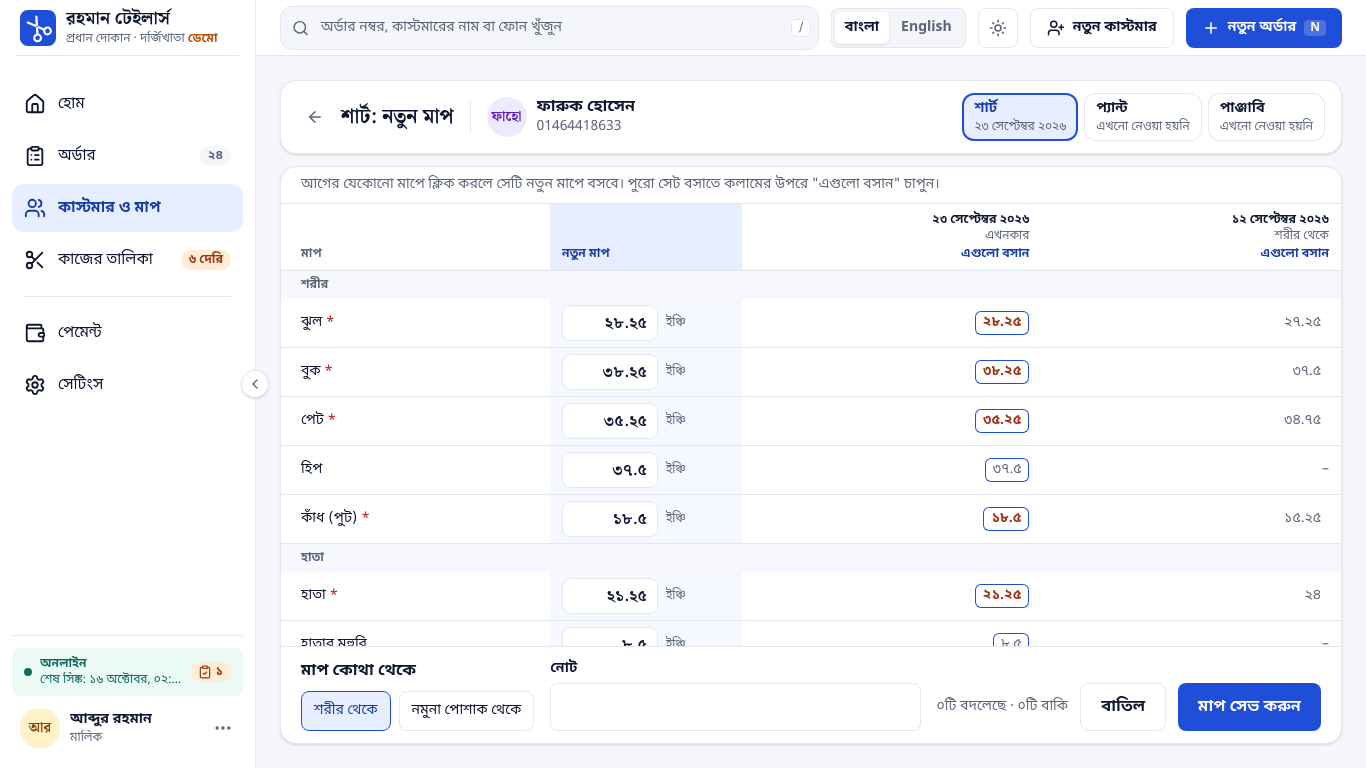
Desktop measurement form › copies a whole earlier version
Expected: the heading "শার্ট: নতুন মাপ" is shown, [341, 103, 454, 131]
// Columns run newest first, so the last one is the oldest version shown.
Click the button "এগুলো বসান" below "১২ সেপ্টেম্বর ২০২৬" at point(1295, 254), box [1261, 246, 1329, 262]
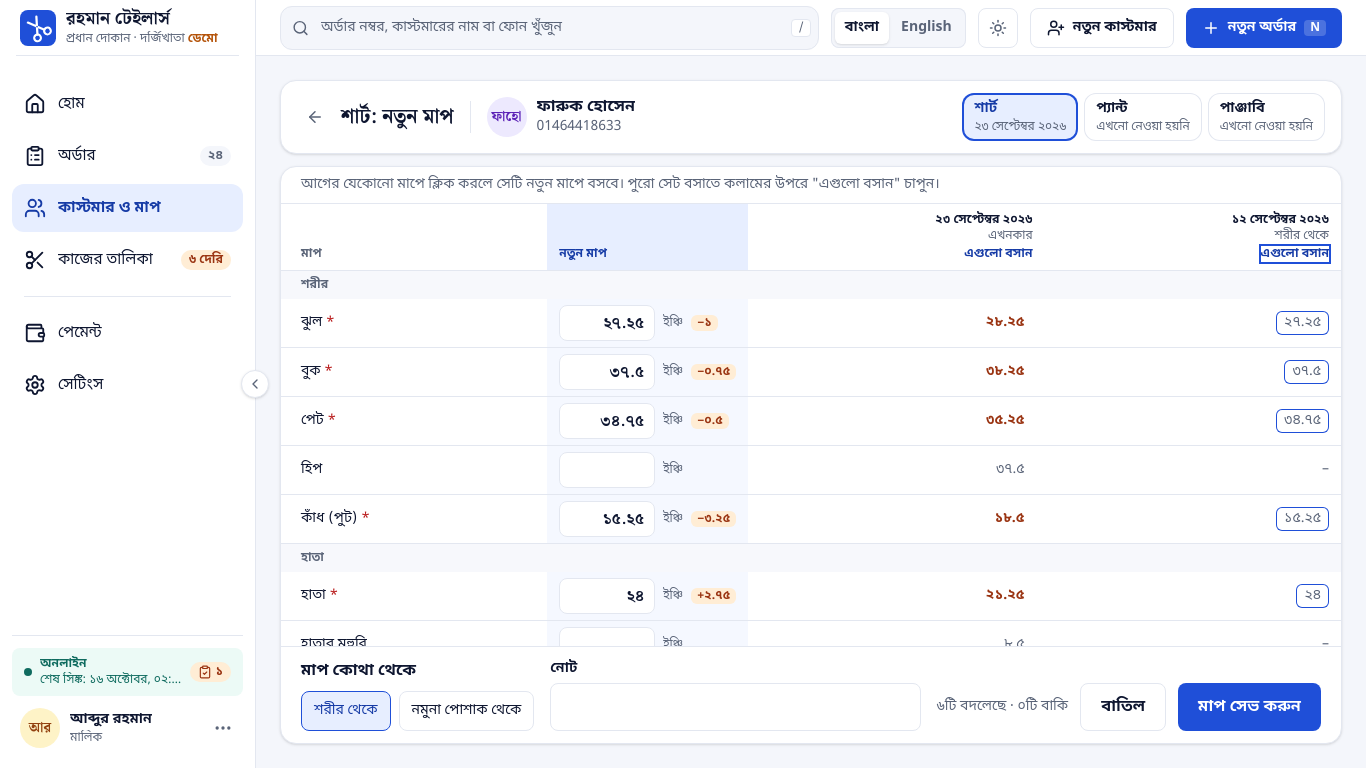
Click the button "মাপ সেভ করুন" at point(1250, 707), box [1178, 683, 1321, 731]
(page scrolled)
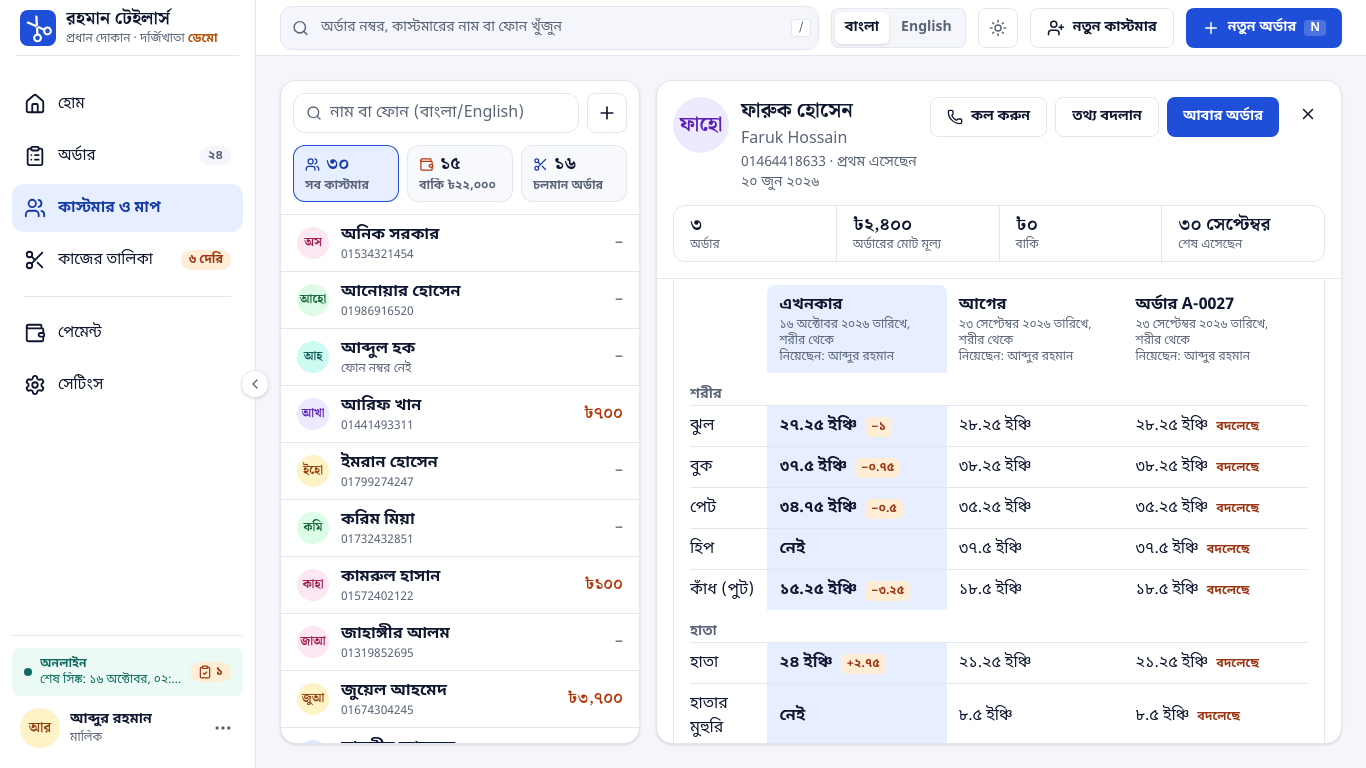
Now the element "মাপ" is shown, box [673, 278, 1325, 743]
